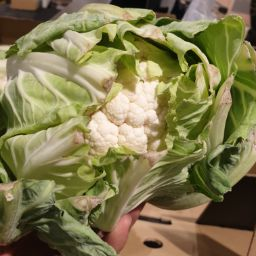Cauliflower: (2, 4, 256, 256), (16, 41, 254, 188), (7, 105, 158, 239)
